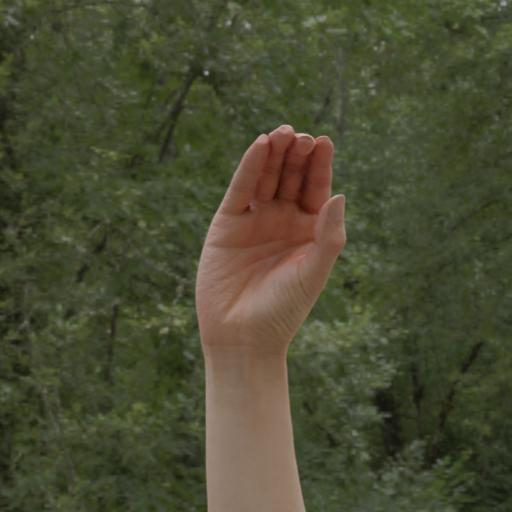C: (181, 119, 363, 399)
